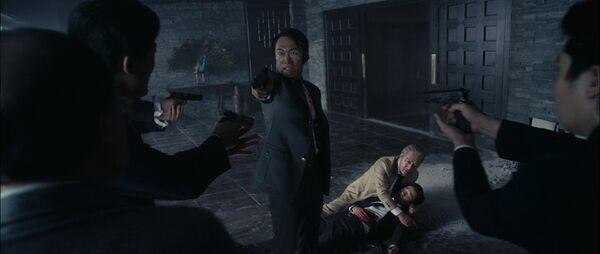Gun: (423, 86, 471, 132), (167, 89, 200, 108), (223, 111, 254, 130), (251, 67, 274, 87)
